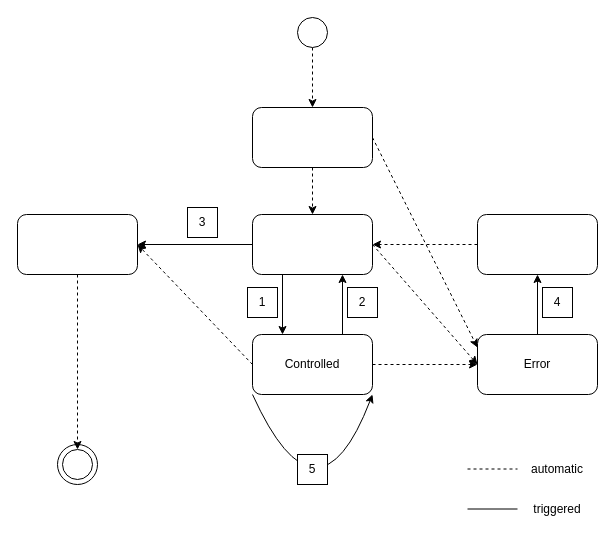
This 615x542 diagram has some shape labels left out. The centre of each missing label's shape, as x and y in pixels:
"Initialising" goes at [312,137].
"Ready" goes at [312,244].
"Recovering" goes at [537,244].
"Shutting Down" goes at [77,244].
